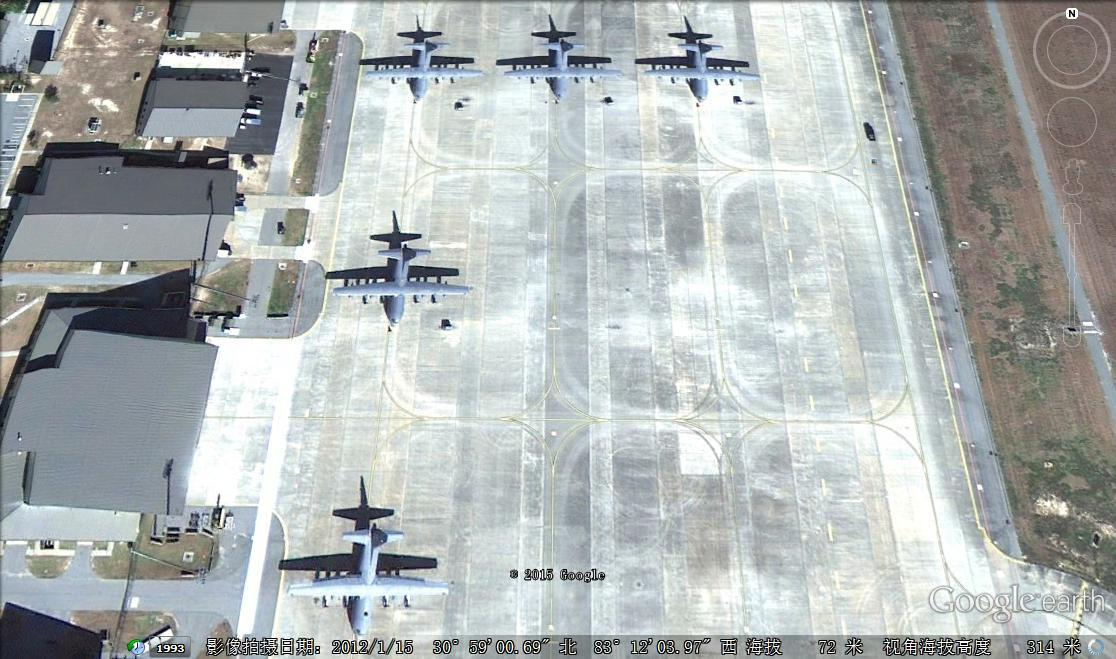C-130: (288, 522, 450, 640), (328, 236, 479, 330), (640, 27, 757, 106), (501, 32, 624, 107), (366, 35, 485, 108)
